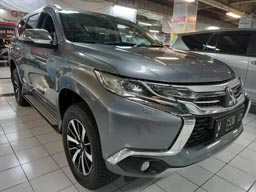plat: (216, 109, 244, 138)
